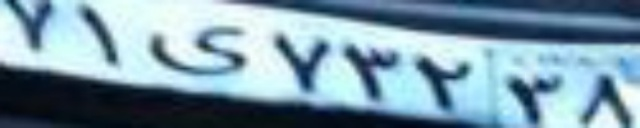1: (74, 3, 121, 65)
2: (412, 55, 473, 112)
3: (342, 44, 403, 99), (504, 73, 566, 126)
7: (267, 32, 332, 93), (2, 0, 61, 50)
8: (575, 75, 636, 127)
ye: (148, 24, 249, 78)
